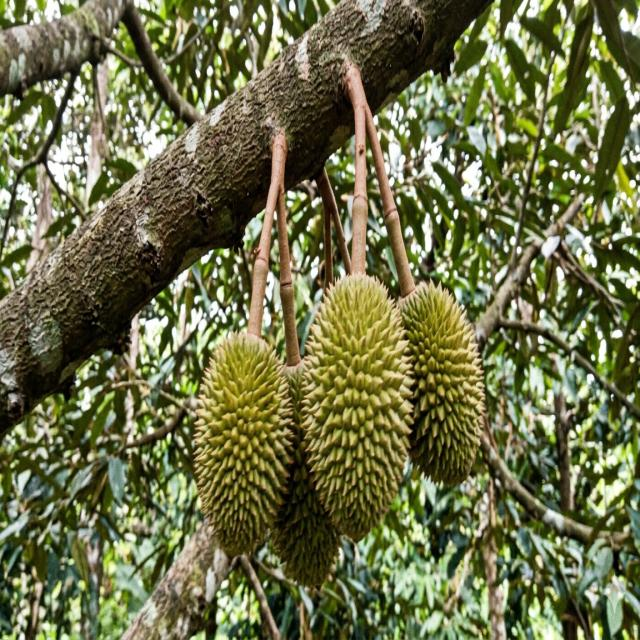immature: (298, 269, 416, 539), (192, 328, 295, 557), (396, 276, 485, 487), (271, 367, 344, 582)
